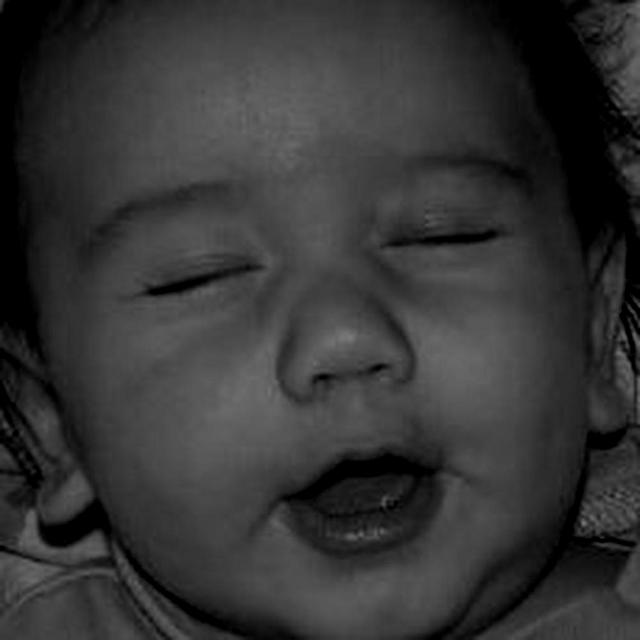real: (5, 6, 640, 640), (104, 164, 520, 316)
